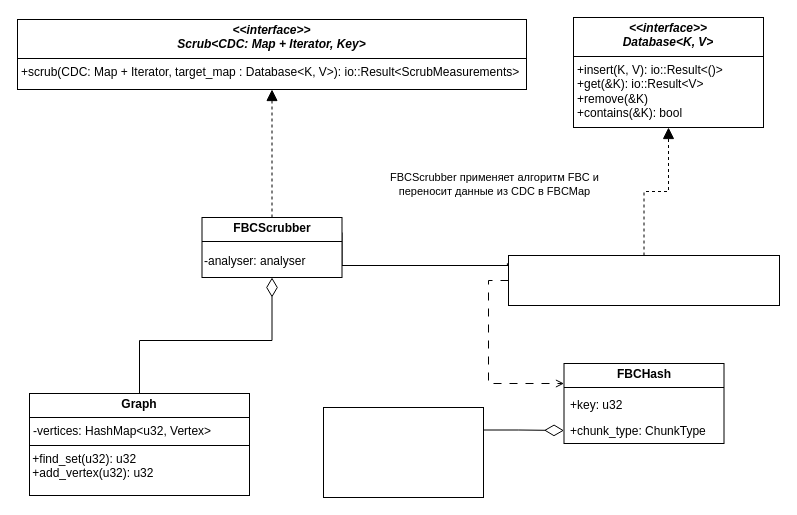
This 797x515 diagram has some shape labels left out. Here are the shapes that lost their labels. From the top down, the centre of each, then its label:
At (644,280): "FBCMap -fbc_hashmap: HashMap<FBCHash, Vec<u8>>".
At (403,452): "<< enumeration >> ChunkType Real Unreal".
